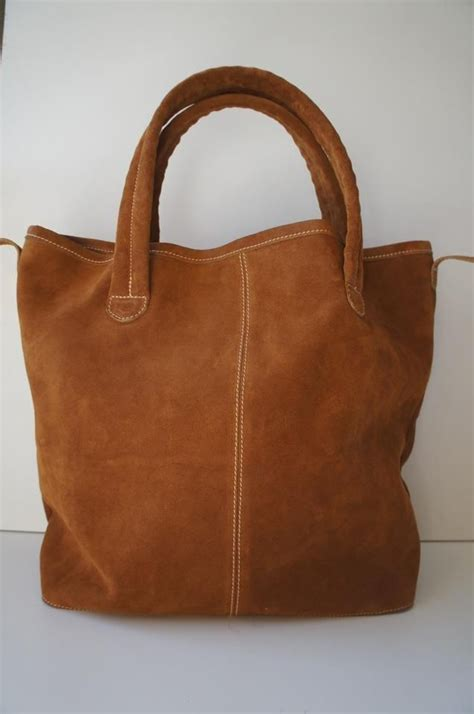gamuza: (18, 225, 437, 620)
